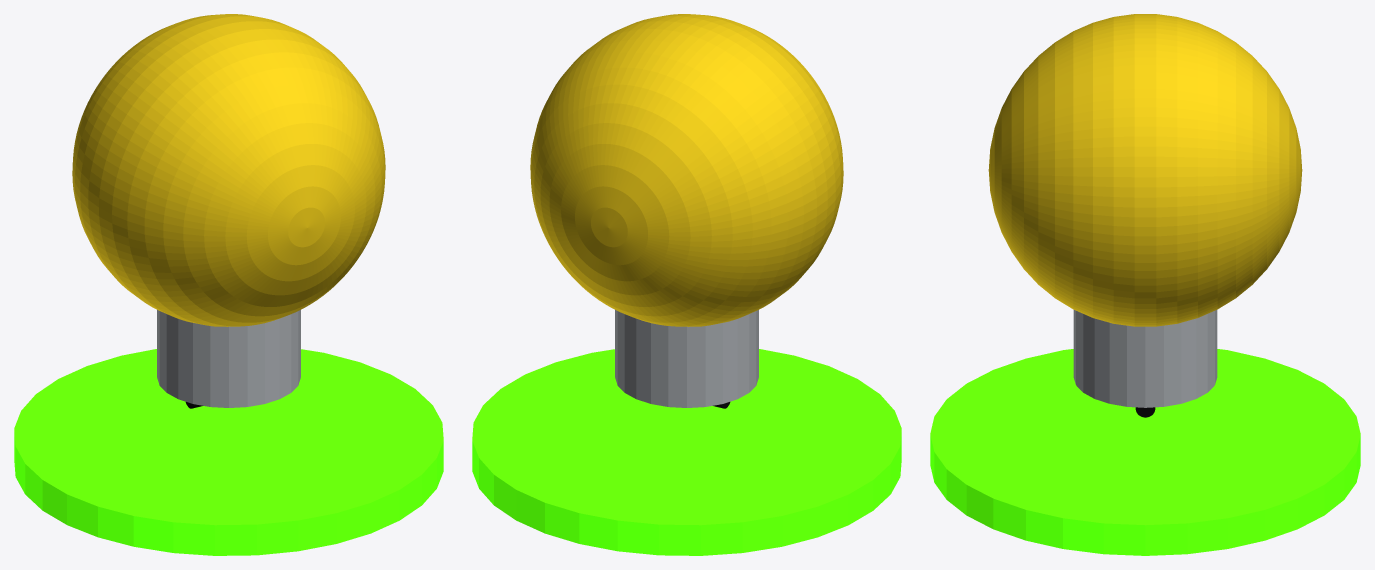
The model's file is tech_light_bulb.dae.
3 views of the same model, side by side, from view 1: azimuth 30°, elevation 25°; view 2: azimuth 150°, elevation 25°; view 3: azimuth 270°, elevation 25° (orthographic).
Visible parts, largest first — view 1: 08_20_Popular_Tech_Light_Bulb_part_01, 08_20_Popular_Tech_Light_Bulb_ROOT_base, 08_20_Popular_Tech_Light_Bulb_part_02; view 2: 08_20_Popular_Tech_Light_Bulb_part_01, 08_20_Popular_Tech_Light_Bulb_ROOT_base, 08_20_Popular_Tech_Light_Bulb_part_02; view 3: 08_20_Popular_Tech_Light_Bulb_part_01, 08_20_Popular_Tech_Light_Bulb_ROOT_base, 08_20_Popular_Tech_Light_Bulb_part_02.
Boxes of the visible parts, bbox=[...] form: 08_20_Popular_Tech_Light_Bulb_part_01: bbox=[72, 14, 385, 326]; 08_20_Popular_Tech_Light_Bulb_ROOT_base: bbox=[14, 349, 443, 555]; 08_20_Popular_Tech_Light_Bulb_part_02: bbox=[157, 310, 300, 407]; 08_20_Popular_Tech_Light_Bulb_part_01: bbox=[530, 14, 843, 326]; 08_20_Popular_Tech_Light_Bulb_ROOT_base: bbox=[472, 349, 901, 555]; 08_20_Popular_Tech_Light_Bulb_part_02: bbox=[615, 310, 758, 407]; 08_20_Popular_Tech_Light_Bulb_part_01: bbox=[988, 14, 1302, 326]; 08_20_Popular_Tech_Light_Bulb_ROOT_base: bbox=[930, 349, 1360, 555]; 08_20_Popular_Tech_Light_Bulb_part_02: bbox=[1073, 310, 1217, 407].
Bounding box in the file's own units: 0.76 × 0.85 × 0.76.
